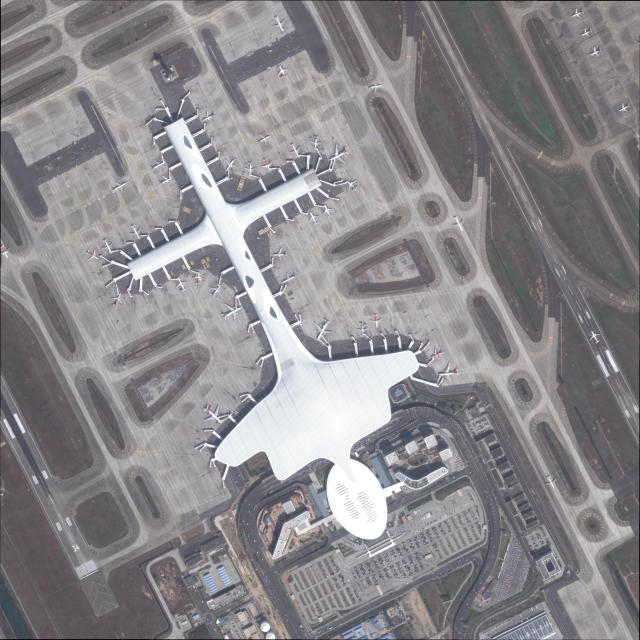plane: (308, 312, 340, 346), (197, 397, 227, 430), (219, 299, 245, 325), (326, 144, 350, 166), (108, 178, 130, 196), (273, 62, 292, 82), (98, 236, 117, 256), (438, 362, 457, 382), (148, 156, 167, 175), (126, 220, 144, 240), (342, 175, 360, 194), (271, 14, 288, 34), (107, 292, 126, 309), (286, 141, 304, 158), (222, 155, 239, 173), (83, 247, 101, 264), (281, 270, 298, 287), (208, 283, 225, 299), (173, 276, 189, 293), (256, 131, 272, 148), (308, 133, 323, 151), (587, 328, 602, 346), (201, 109, 217, 125), (451, 214, 465, 232), (158, 173, 173, 189), (570, 6, 586, 21), (543, 474, 558, 490), (367, 79, 382, 95), (306, 210, 321, 226), (320, 203, 335, 219), (579, 25, 594, 40), (260, 156, 274, 172), (243, 160, 257, 176), (589, 45, 604, 59), (618, 101, 632, 115), (274, 247, 288, 261), (192, 271, 205, 286), (429, 348, 444, 361), (369, 314, 382, 328), (356, 322, 369, 335)
storage-tank: (260, 620, 270, 632)
